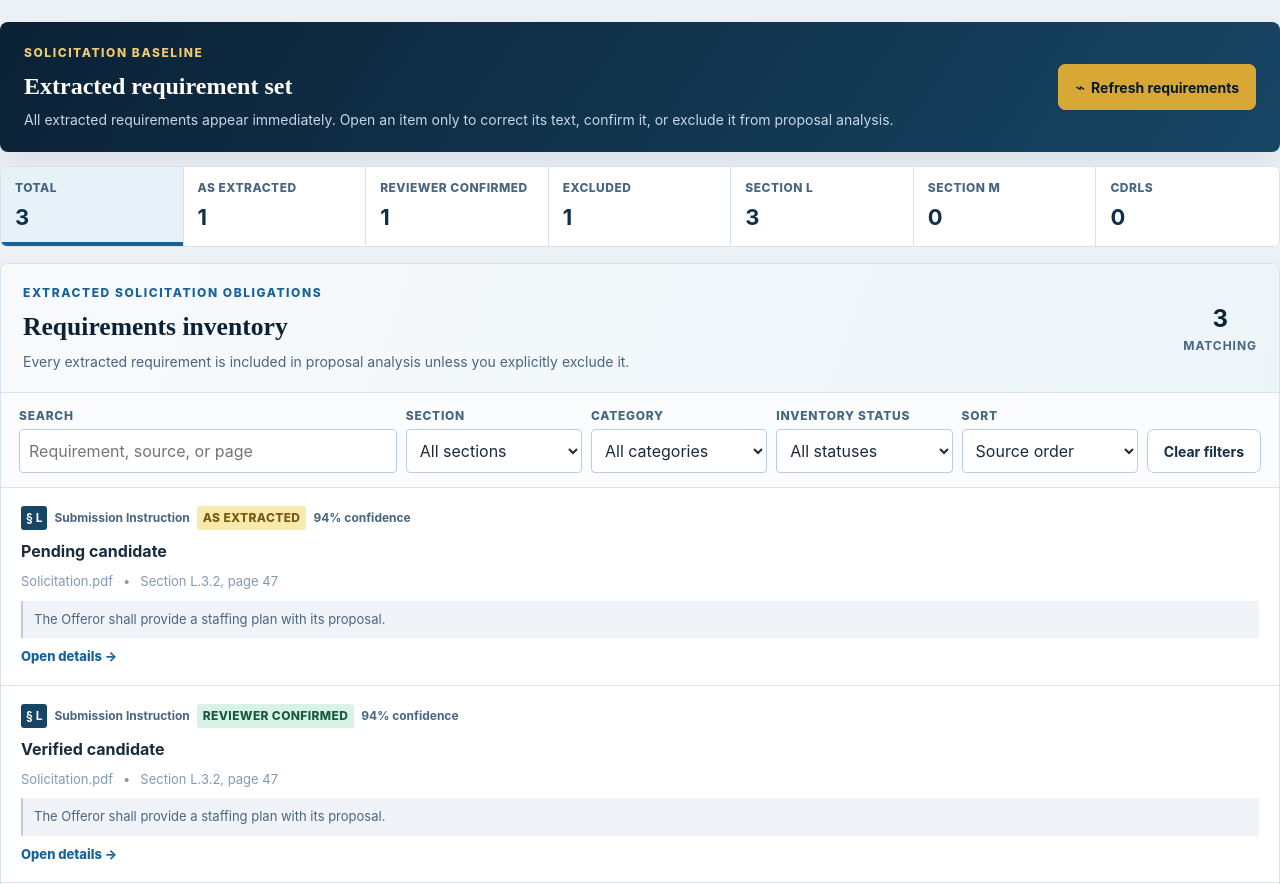
Test: RequirementsWorkspace › opens on the full inventory and applies summary and clear-filter actions
The image size is (1280, 884).
Expected: the text "Pending candidate" is shown, [21,541,167,561]
Expected: the text "Verified candidate" is shown, [21,739,164,759]
Step 1. Click the button "Reviewer confirmed 1" → (457, 206), box [366,167,549,246]
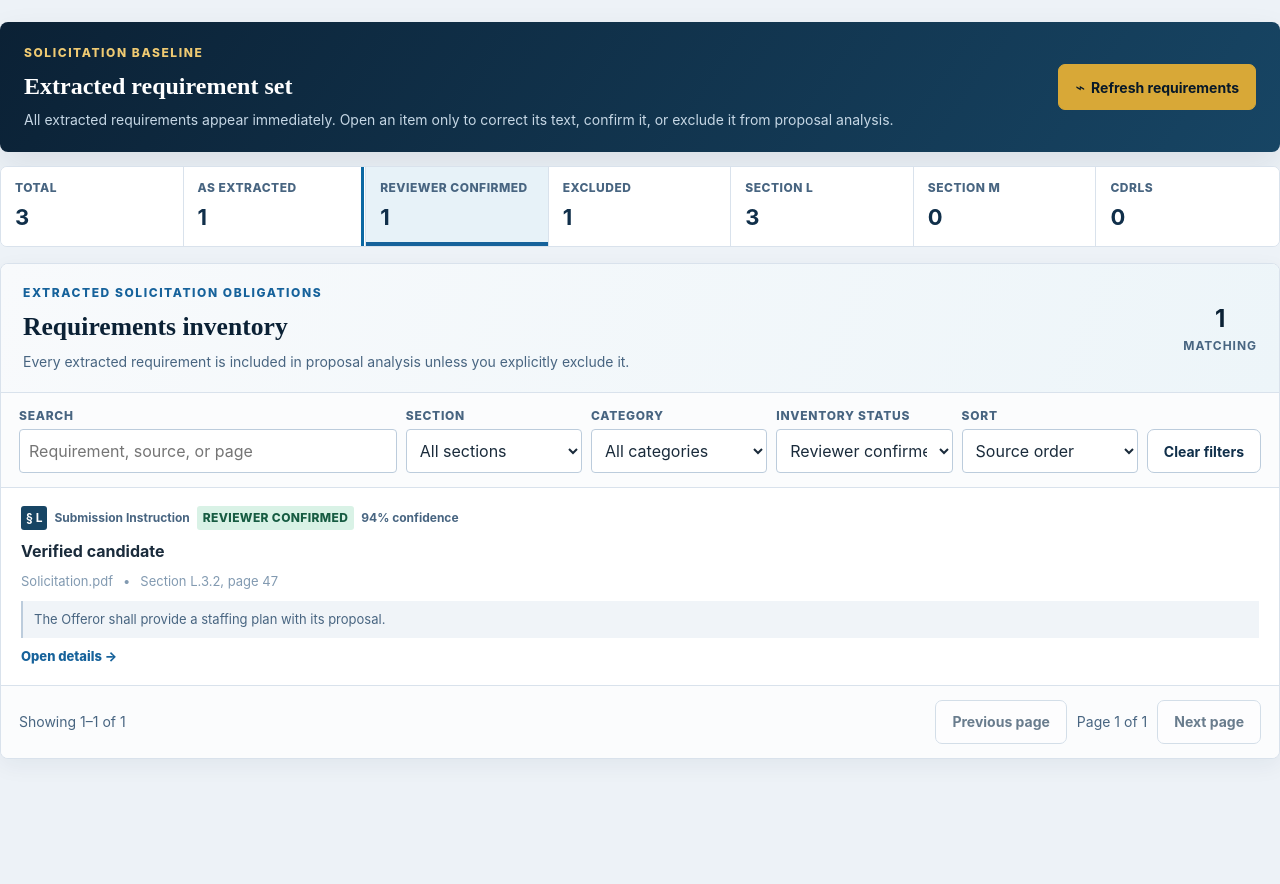
Expected: the text "Verified candidate" is shown, [21,541,164,561]
Expected: the button "Pending candidate" is gone
Step 2. Click the button "Clear filters" → (1204, 451), box [1147,429,1261,473]
(page scrolled)
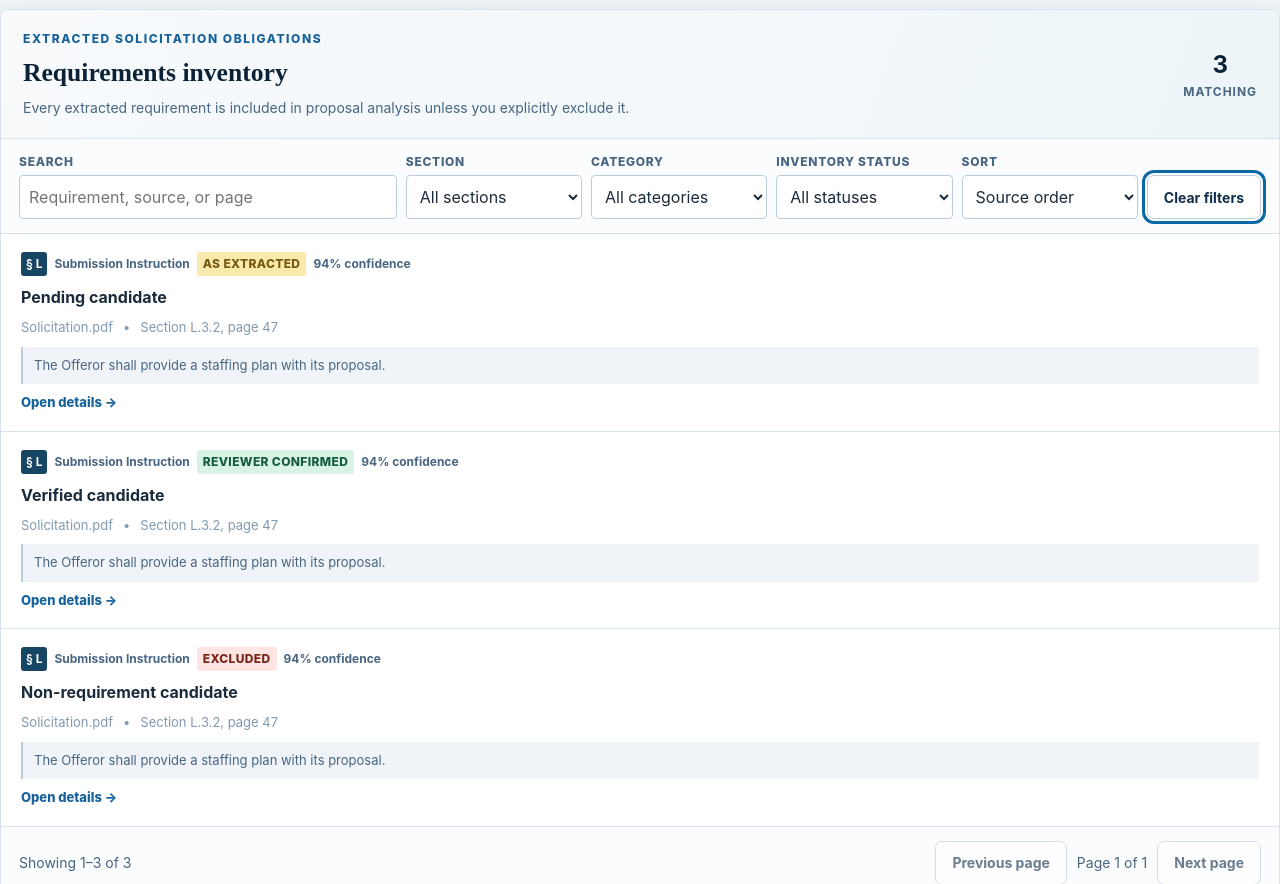
Expected: the text "Verified candidate" is shown, [21,485,164,505]
Expected: the text "Pending candidate" is shown, [21,287,167,307]
Expected: the text "Non-requirement candidate" is shown, [21,682,238,702]
